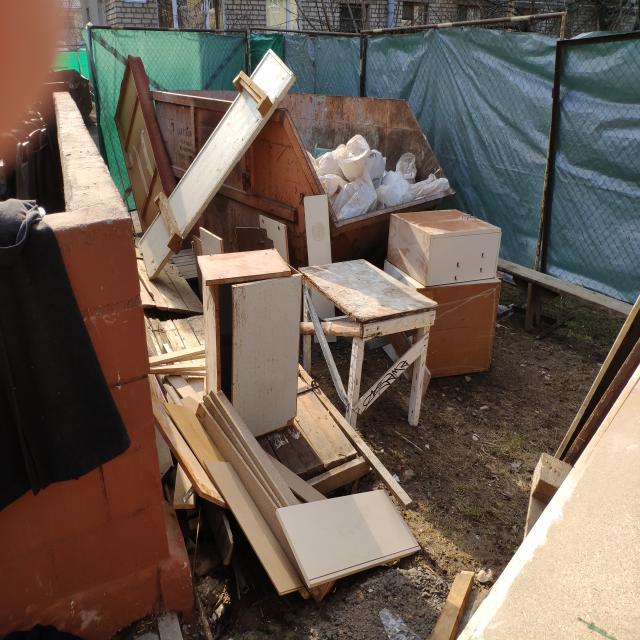entulho: (304, 78, 454, 272), (107, 62, 268, 236), (296, 260, 441, 434), (382, 207, 508, 377), (278, 488, 422, 598), (220, 274, 307, 444), (154, 397, 237, 568)
